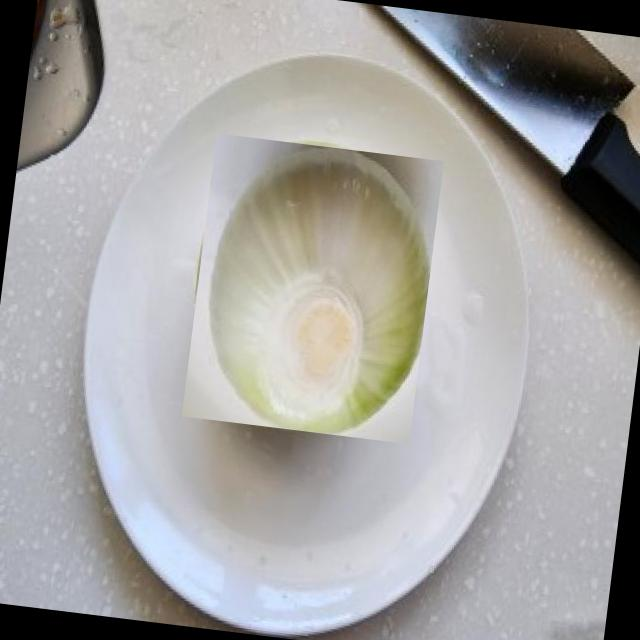Onion: (181, 132, 444, 444)
